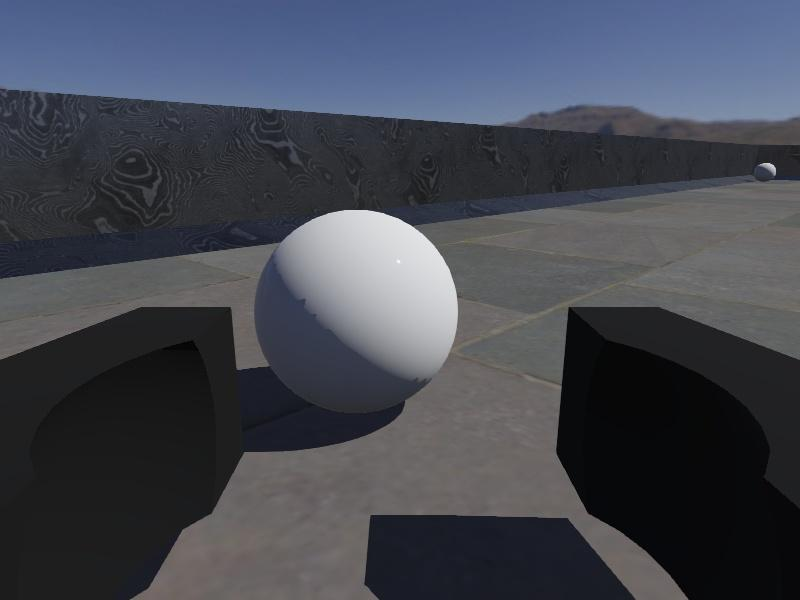white ball: (252, 207, 459, 414), (752, 162, 777, 183)
